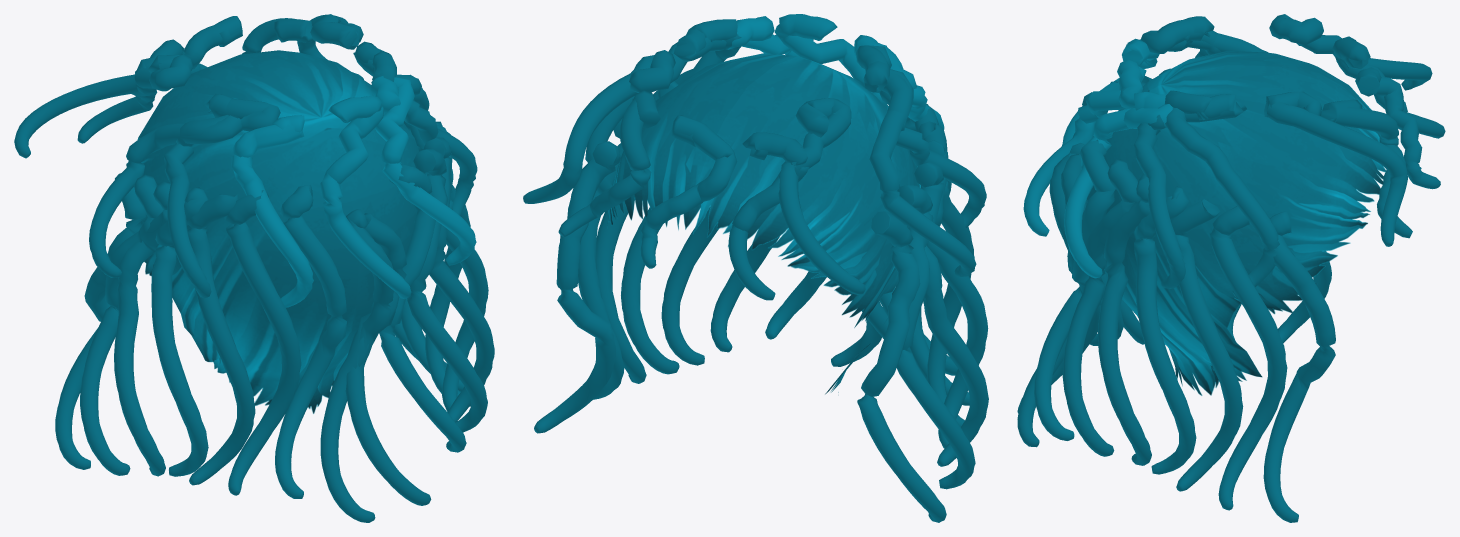
Rendered from hair.glb.
3 renders of one model, left to right at view 1: azimuth 30°, elevation 25°; view 2: azimuth 150°, elevation 25°; view 3: azimuth 270°, elevation 25°, orthographic. The views are drawn at different scales.
Visible parts, largest first — view 1: male-medium-waves-v1; view 2: male-medium-waves-v1; view 3: male-medium-waves-v1.
Part boxes in pixels (bbox=[...]): male-medium-waves-v1: bbox=[14, 14, 494, 522]; male-medium-waves-v1: bbox=[523, 14, 988, 522]; male-medium-waves-v1: bbox=[1017, 14, 1445, 522].
Bounding box in the file's own units: 0.3076 × 0.2875 × 0.2967.
Materials: 1 (1 with a texture image).
